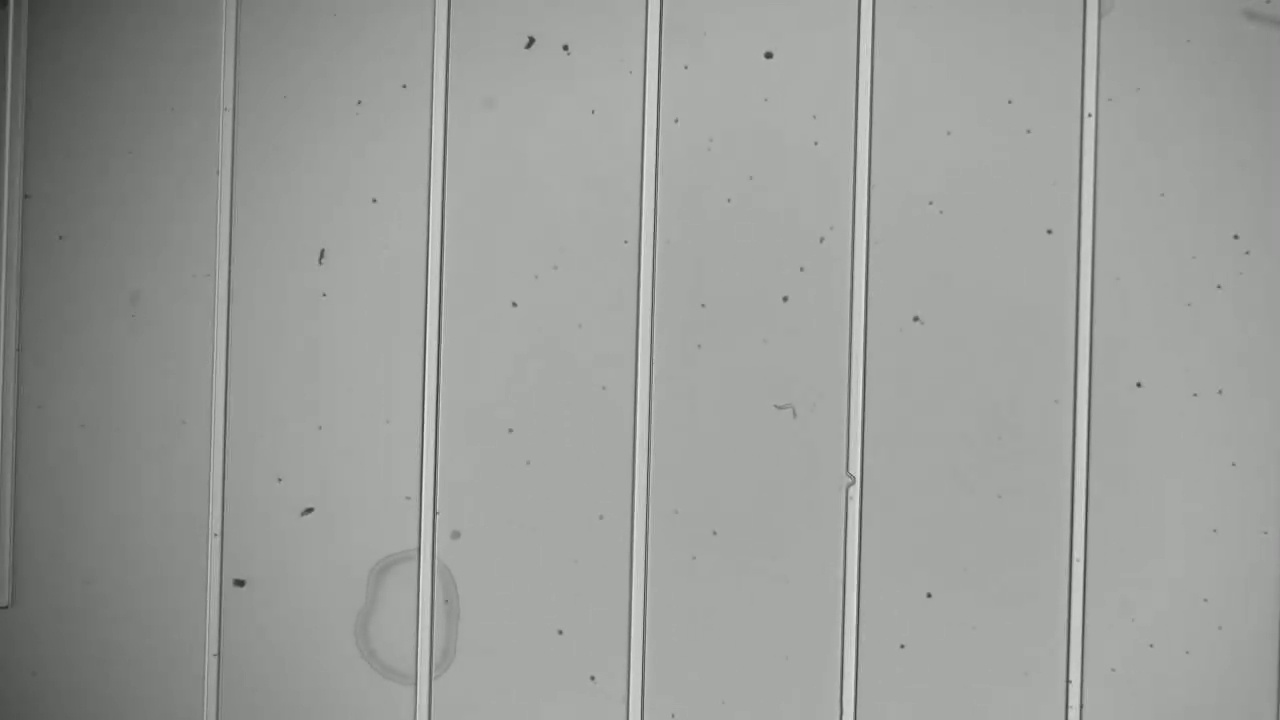edge_bite: (836, 462, 870, 499)
